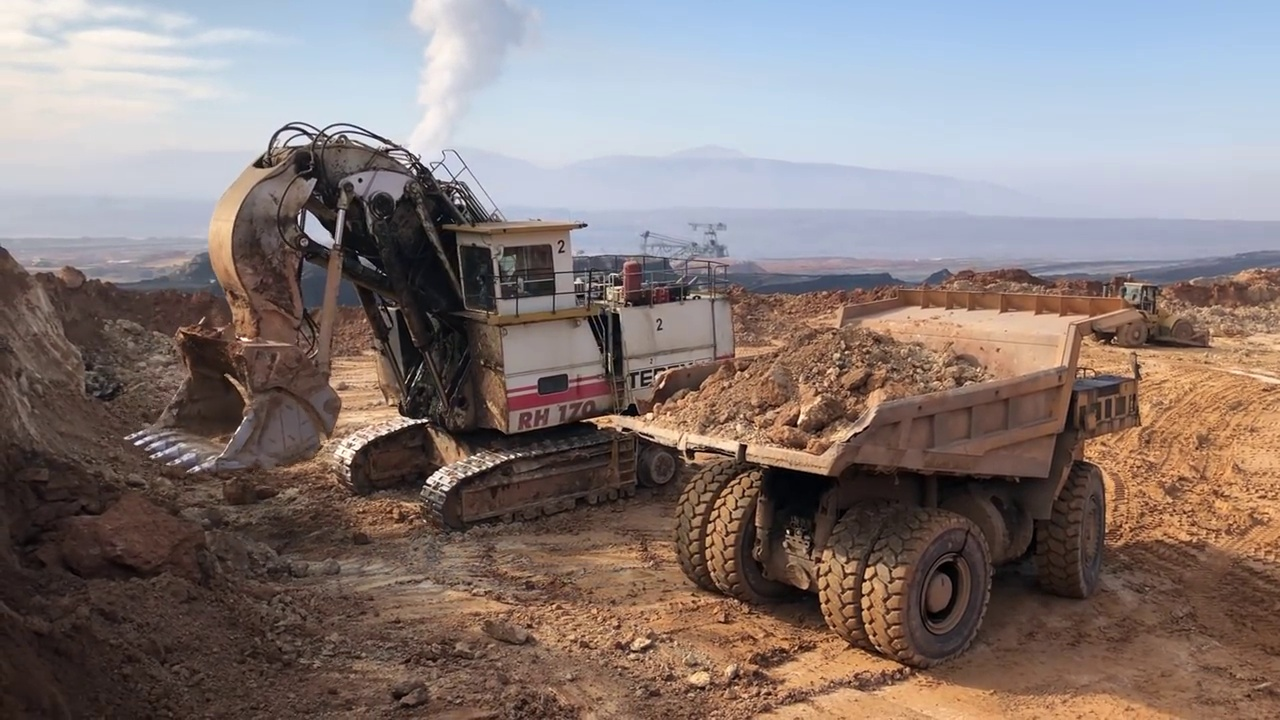dumper: (583, 290, 1144, 672)
excavator: (125, 132, 738, 533)
